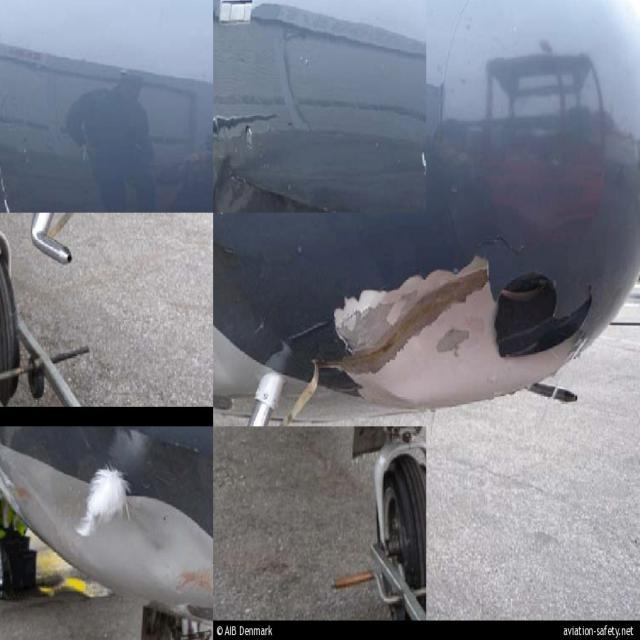crack: (479, 233, 528, 263)
dent: (355, 284, 489, 409), (135, 509, 183, 571)
